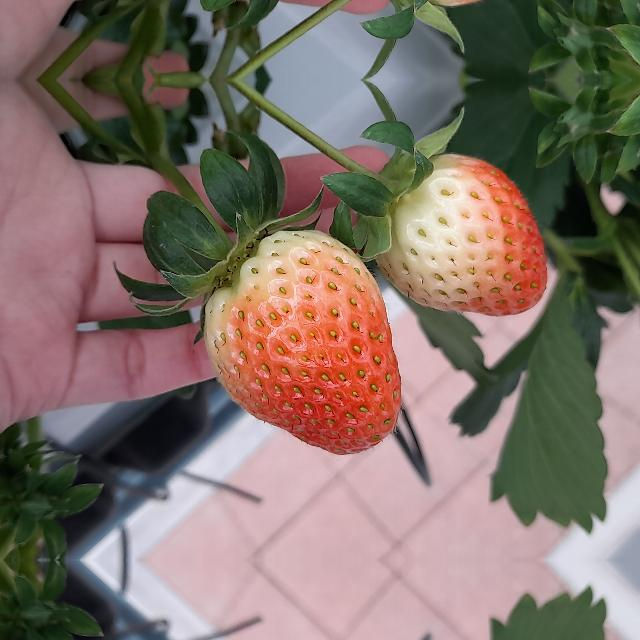Health_75: (204, 230, 400, 454), (372, 152, 546, 324)
